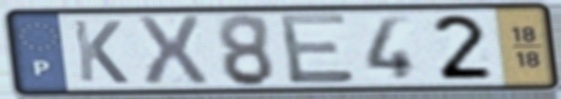2: (428, 12, 498, 82)
4: (361, 14, 421, 83)
8: (214, 11, 278, 89)
E: (275, 11, 359, 88)
K: (69, 18, 132, 86)
X: (132, 14, 212, 89)
